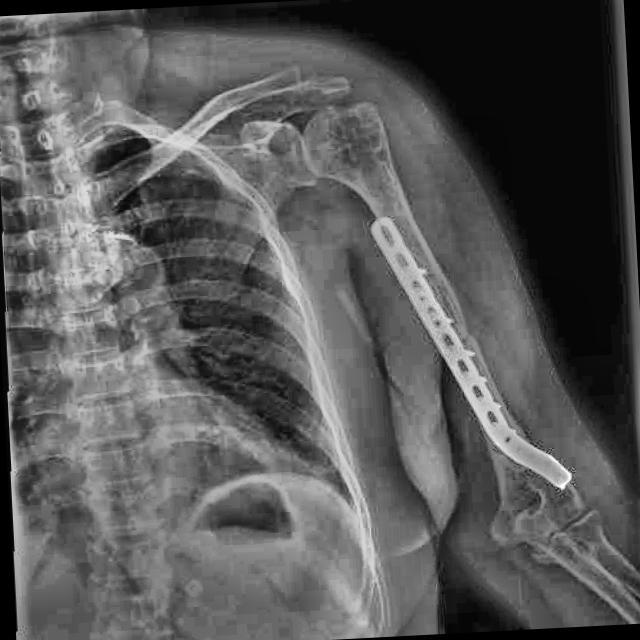humerus: (455, 319, 485, 356)
